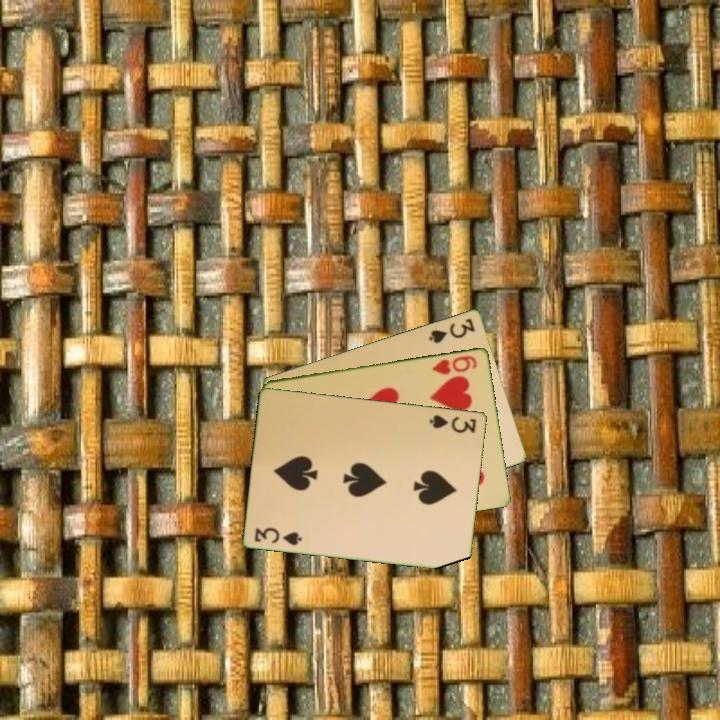3s: (425, 314, 478, 346), (251, 523, 305, 548), (426, 411, 479, 435)
6h: (428, 352, 480, 377)
